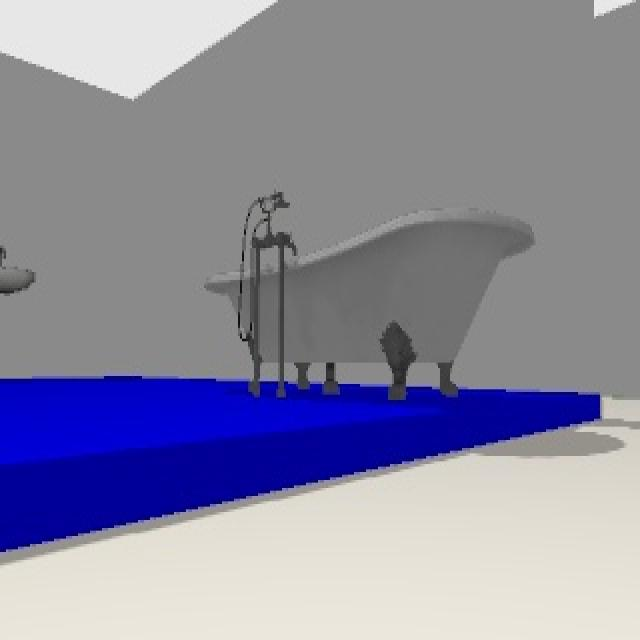bathtub: (205, 186, 538, 403)
